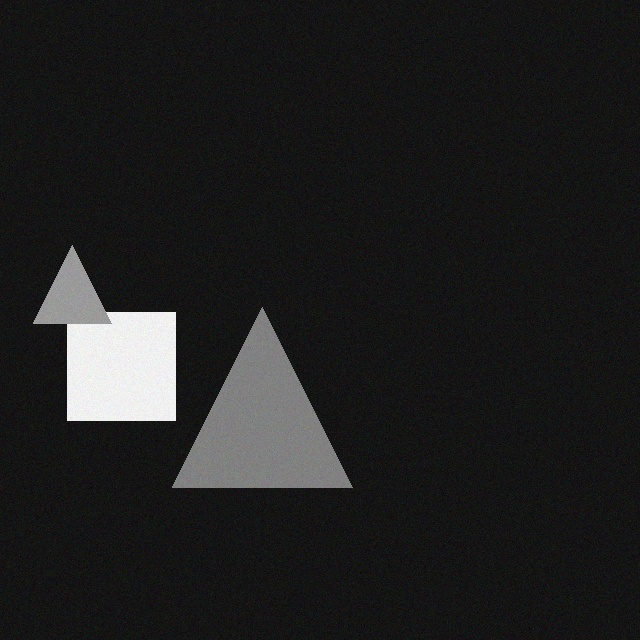square: (80, 300, 188, 408)
triangle: (185, 295, 365, 475), (46, 233, 124, 311)
